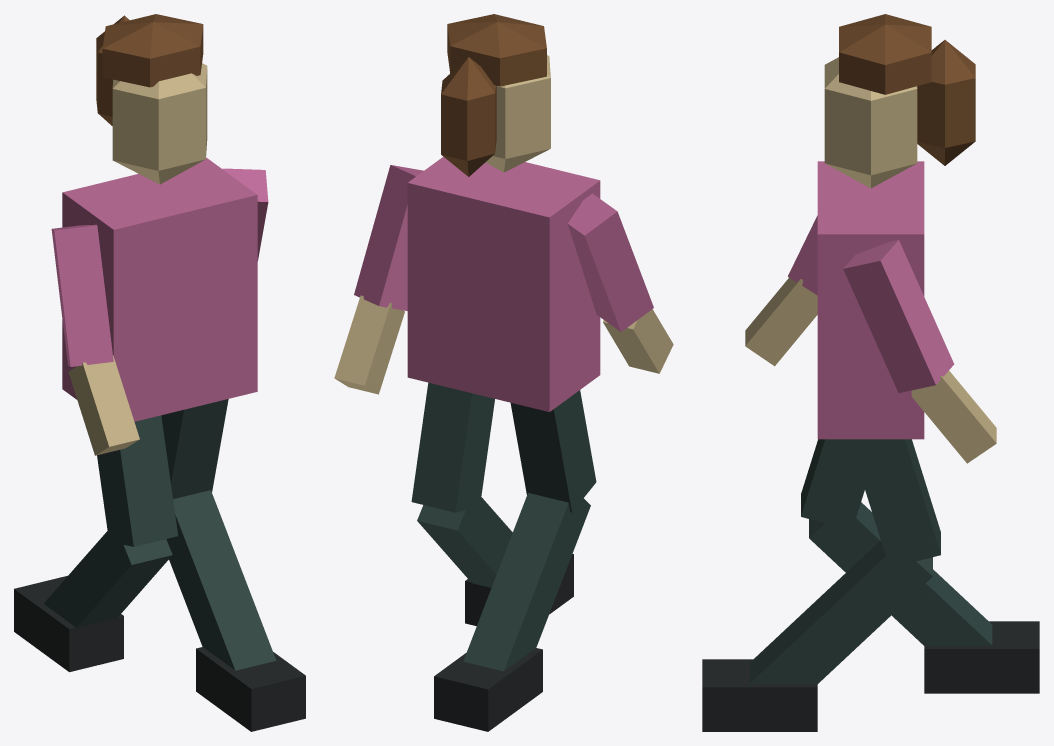
Rendered from TownVisitor2.obj.
3 renders of one model, left to right at view 1: azimuth 30°, elevation 25°; view 2: azimuth 150°, elevation 25°; view 3: azimuth 270°, elevation 25°, orthographic. The views are drawn at different scales.
Parts seen in each view (by area): view 1: TownVisitor2; view 2: TownVisitor2; view 3: TownVisitor2.
Boxes of the visible parts, x1,y1,x2,y2 form: TownVisitor2: (14, 14, 305, 731); TownVisitor2: (334, 14, 673, 731); TownVisitor2: (702, 14, 1039, 731).
Size of the model in its own units: 0.7047 by 1.81 by 0.82.
Materials: 1 (1 with a texture image).
